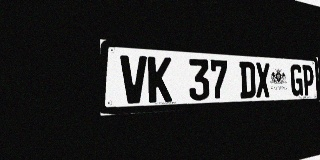3: (189, 58, 209, 101)
7: (209, 60, 228, 100)
D: (239, 61, 256, 98)
G: (290, 64, 303, 96)
K: (148, 56, 172, 103)
P: (302, 65, 314, 96)
V: (120, 55, 147, 104)
X: (255, 62, 270, 98)
